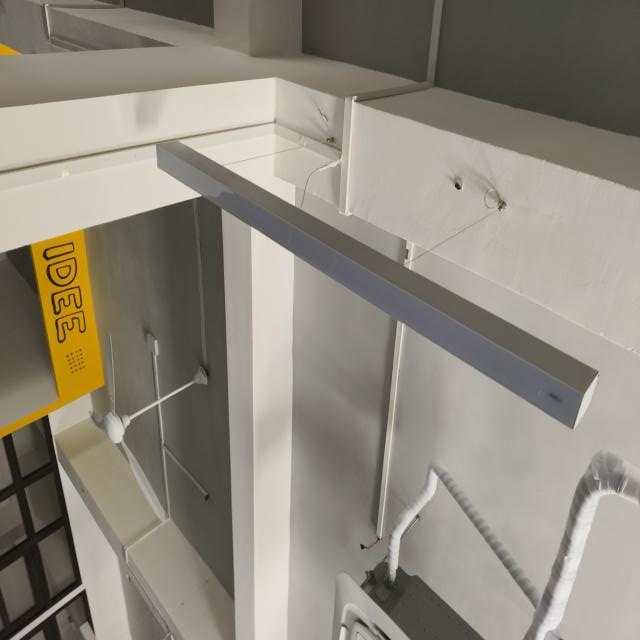fluorescent tube: (147, 134, 605, 439)
